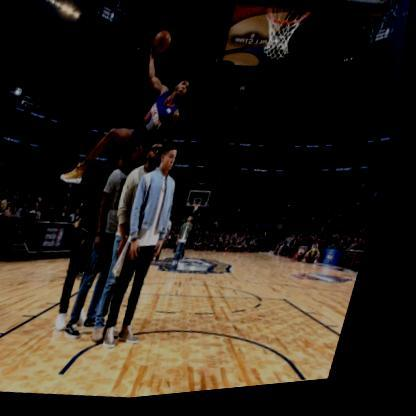basketball: (151, 31, 175, 59)
rim: (253, 8, 314, 71)
